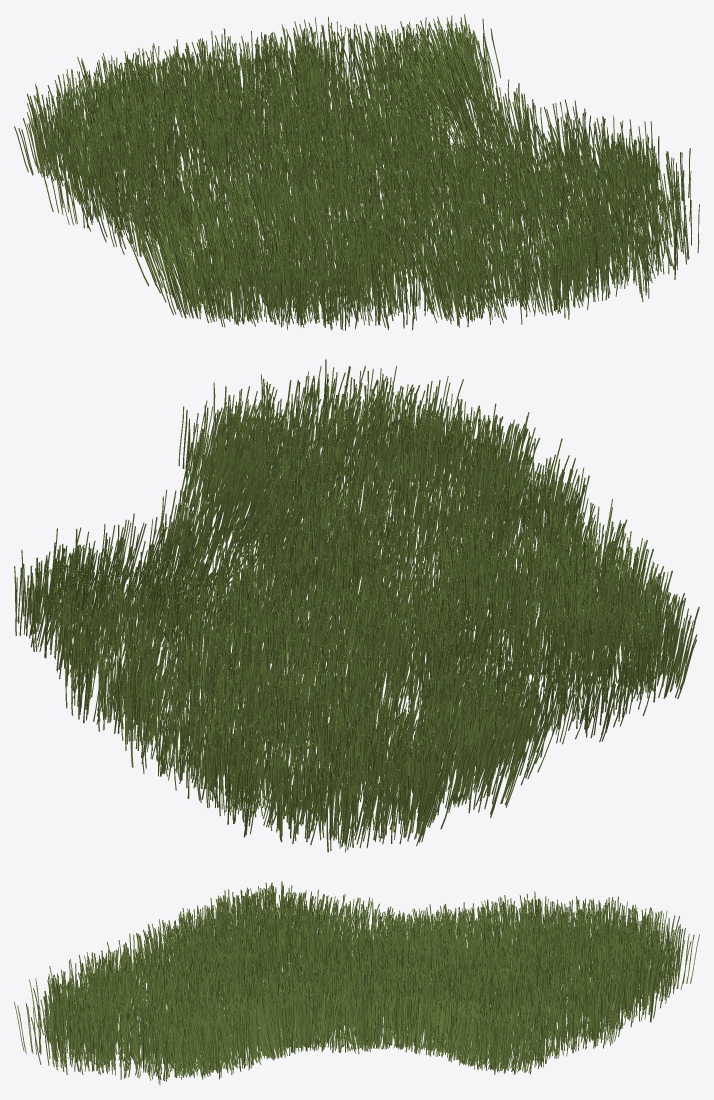
The model's file is m_grass_draco.gltf.
The picture shows the model from 3 angles, top to bottom: view 1: azimuth 30°, elevation 25°; view 2: azimuth 150°, elevation 25°; view 3: azimuth 270°, elevation 25°; orthographic projection. The views are drawn at different scales.
Visible parts, largest first — view 1: Mesh; view 2: Mesh; view 3: Mesh.
Part boxes in pixels (bbox=[...]): Mesh: bbox=[14, 14, 699, 330]; Mesh: bbox=[14, 359, 699, 852]; Mesh: bbox=[14, 881, 699, 1085].
Bounding box in the file's own units: 1.97 × 0.5047 × 2.71.
